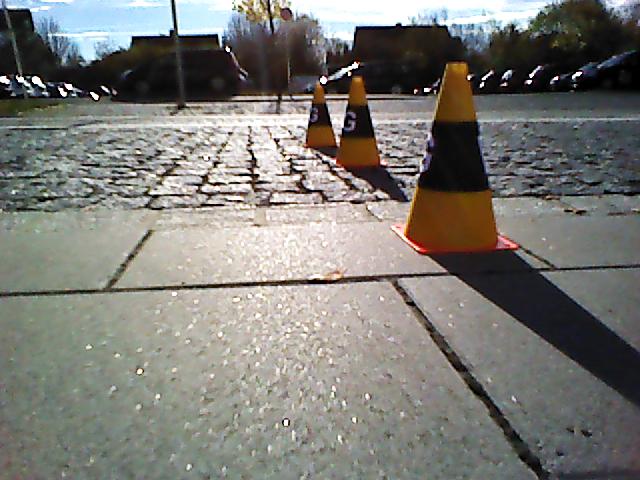yellowcone: (408, 62, 498, 246), (338, 77, 380, 165), (306, 85, 337, 144)
